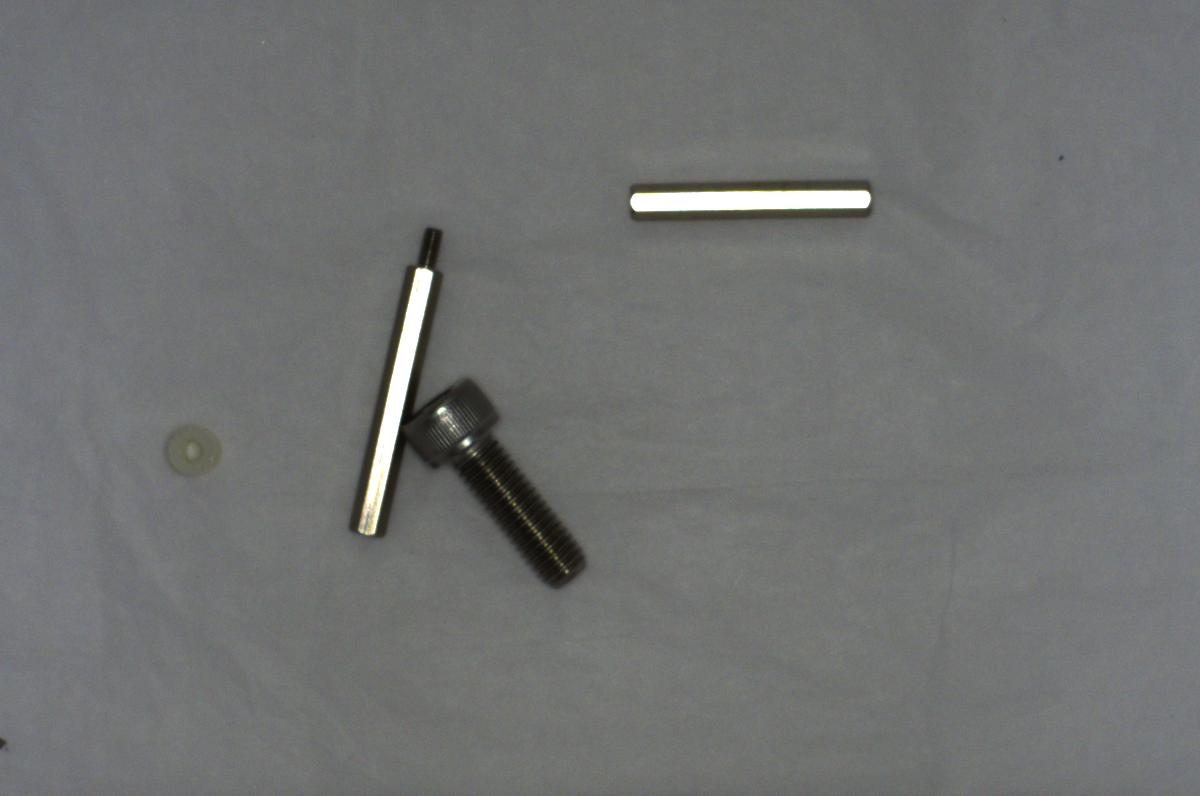Double hexagonal column: (621, 170, 878, 230)
Hexagon screw: (395, 376, 590, 590)
Hexagonal steel column: (348, 222, 437, 538)
Plastic cushion pillar: (148, 420, 224, 485)
